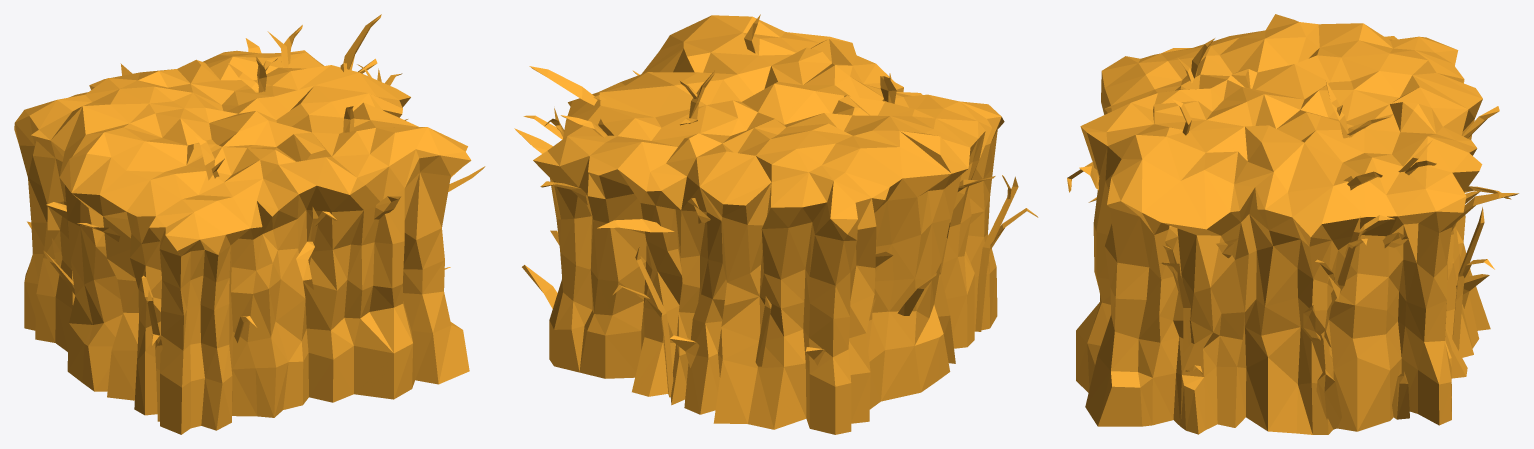
File: SM_Wheat_Seedling_Square_1x1m_A.fbx
The picture shows the model from 3 angles, left to right: view 1: azimuth 30°, elevation 25°; view 2: azimuth 150°, elevation 25°; view 3: azimuth 270°, elevation 25°; orthographic projection. The views are drawn at different scales.
Parts seen in each view (by area): view 1: wheat-seedling-square-1x1m-a; view 2: wheat-seedling-square-1x1m-a; view 3: wheat-seedling-square-1x1m-a.
Boxes of the visible parts, left/top/right/bottom form: wheat-seedling-square-1x1m-a: left=14, top=14, right=485, bottom=434; wheat-seedling-square-1x1m-a: left=514, top=14, right=1038, bottom=434; wheat-seedling-square-1x1m-a: left=1067, top=14, right=1518, bottom=434.
Size of the model in its own units: 1.45 by 0.9403 by 1.34.
